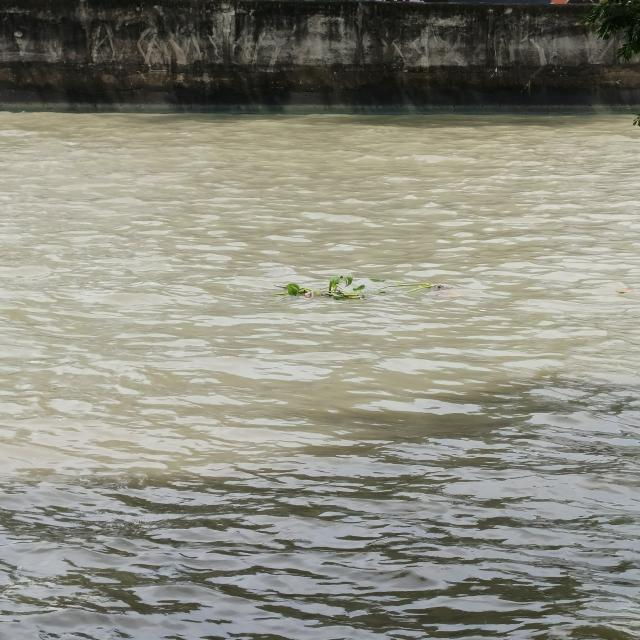Organic Debris: (259, 275, 453, 306), (614, 289, 638, 295)
